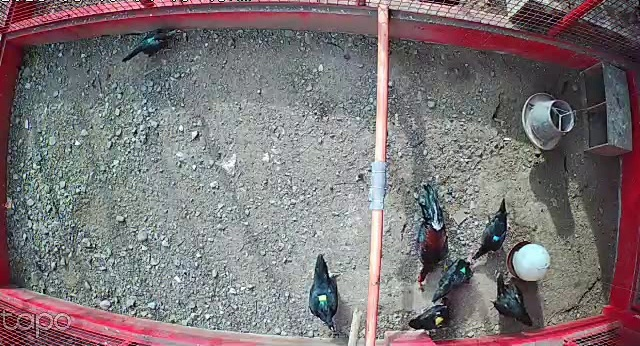Chicken: (306, 249, 345, 334), (473, 194, 514, 262), (490, 269, 533, 327), (123, 23, 182, 65), (430, 257, 474, 302), (408, 296, 453, 331)
Rooster: (412, 179, 455, 284)
Saddle_Color_Blue: (493, 236, 500, 242)
Saddle_Color_Green: (147, 35, 155, 45), (461, 266, 467, 272)
Saddle_Color_Yellow: (434, 314, 443, 324)
Saddle_Color_YellowGreen: (318, 294, 327, 306)
